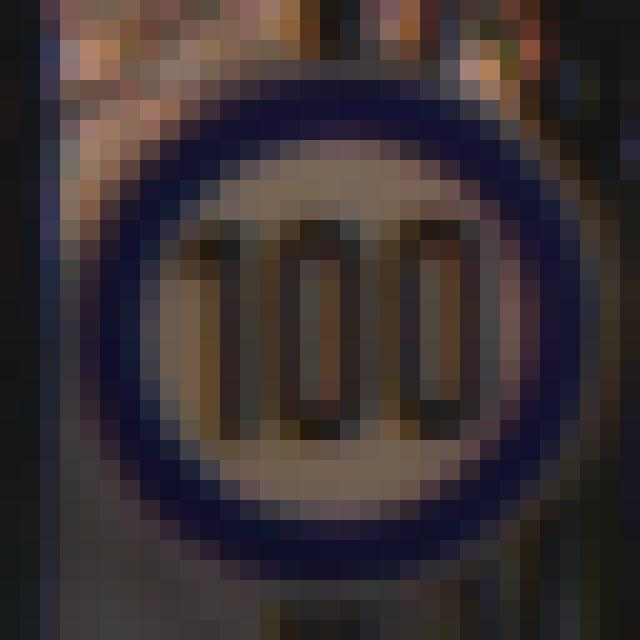SPEED LIMIT 100: (89, 87, 566, 563)
